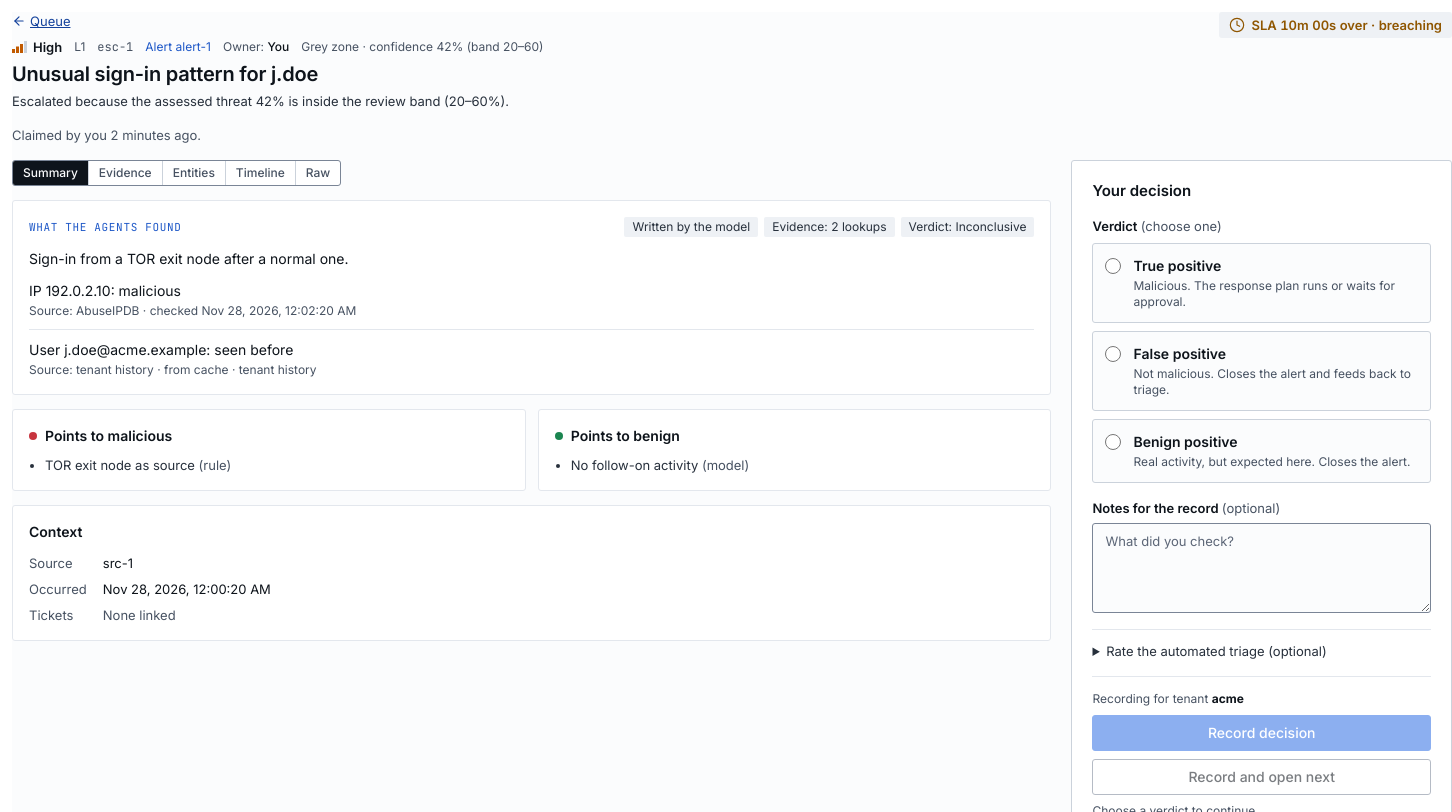
Test: expected response plan › names the target of every planned action, outside the form, which keeps Record decision
The image size is (1452, 812).
Expected: the heading "Unusual sign-in pattern for j.doe" is shown, [12,62,318,86]
Click the radio button labelled "True positive".
click(1114, 266)  # box [1106,258,1122,274]
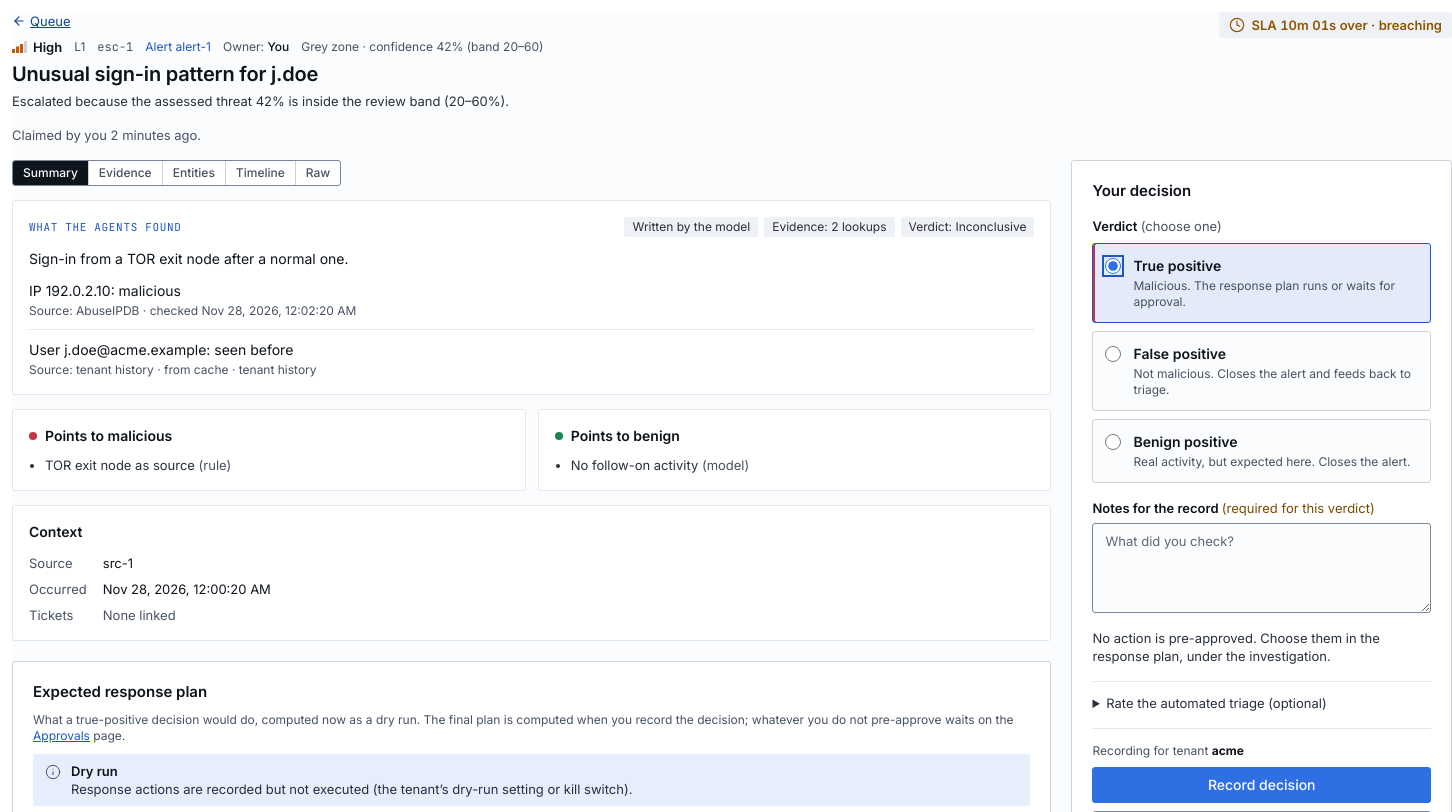
Result: the button "Record decision" is enabled at [1092,767,1431,803]
Result: the text "No action is pre-approved. Choose them in the response plan, under the investigation." is shown at [1092,630,1380,664]
